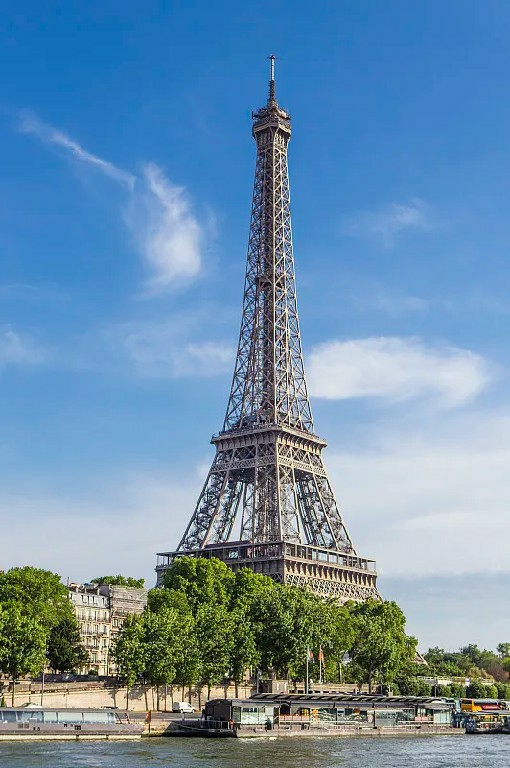Eiffel: (153, 53, 432, 675)
